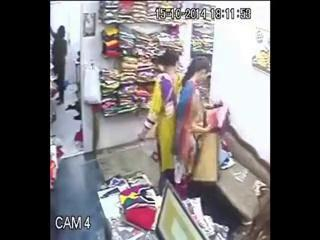shoplifting: (180, 54, 230, 188)
